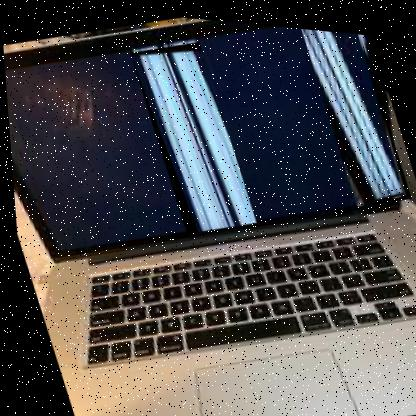lines: (128, 32, 256, 237), (300, 23, 412, 205)
